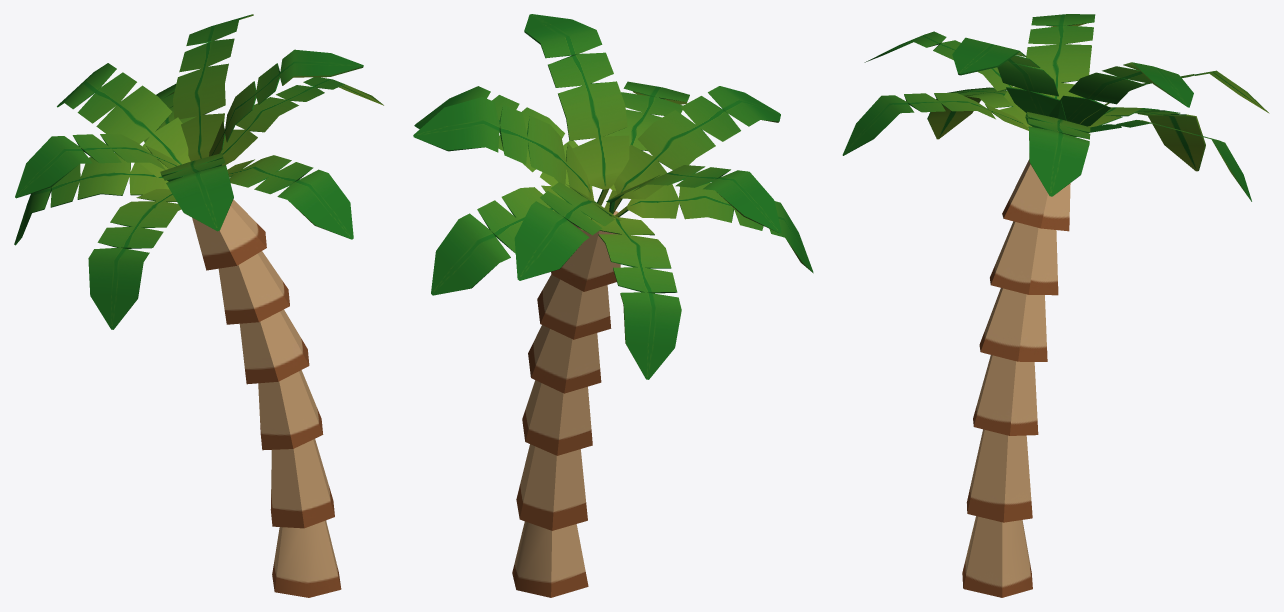
File: Large_palm_noCoconut50percent.fbx
3 renders of one model, left to right at view 1: azimuth 30°, elevation 25°; view 2: azimuth 150°, elevation 25°; view 3: azimuth 270°, elevation 25°, orthographic. The views are drawn at different scales.
Parts seen in each view (by area): view 1: polySurface7; view 2: polySurface7; view 3: polySurface7.
Part boxes in pixels (x1,y1,x2,y2): polySurface7: [14, 14, 383, 597]; polySurface7: [413, 14, 813, 597]; polySurface7: [842, 14, 1269, 597].
Bounding box in the file's own units: 7.08 × 9.86 × 7.2.
